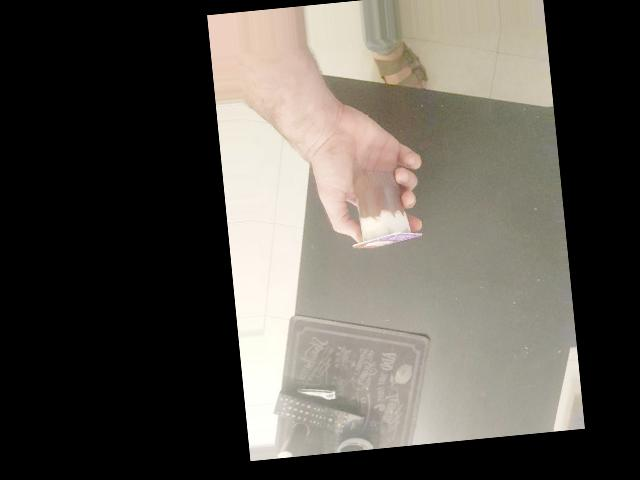milky: (445, 224, 534, 294)
